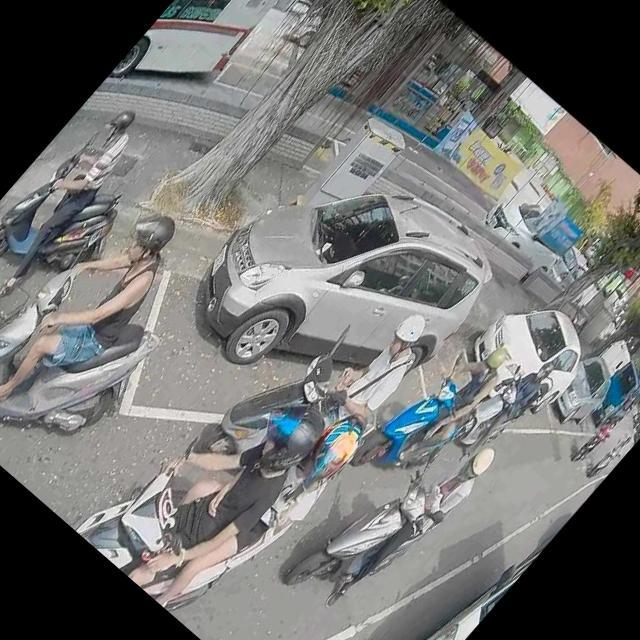person: (121, 361, 377, 633), (87, 356, 334, 616), (0, 182, 205, 443), (317, 420, 505, 627), (0, 95, 158, 297), (384, 320, 526, 474), (302, 297, 444, 450), (454, 353, 562, 470), (580, 413, 620, 457), (608, 432, 634, 459)
